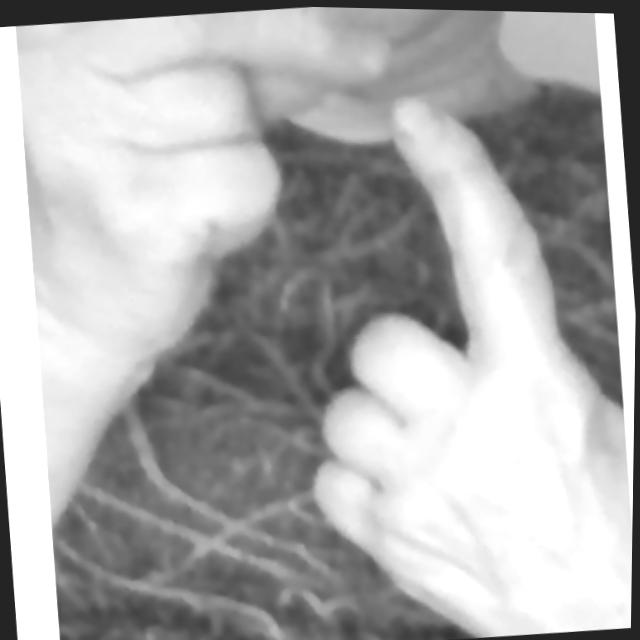I-: (6, 0, 640, 640)
